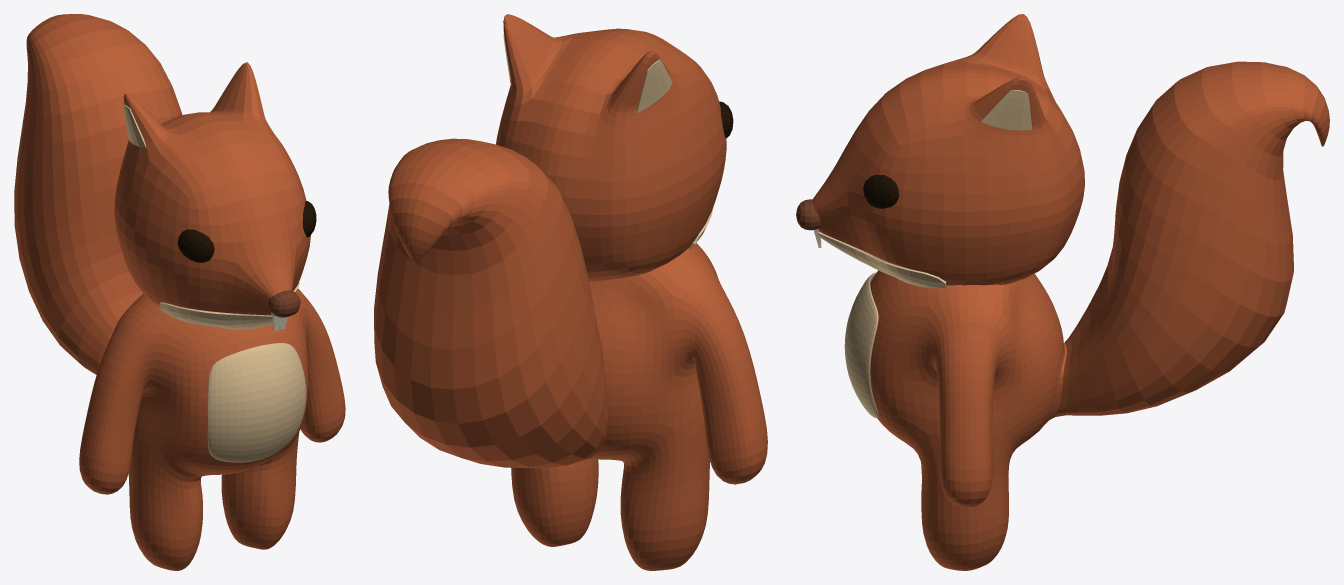
Rendered from squirrel.fbx.
3 views of the same model, side by side, from view 1: azimuth 30°, elevation 25°; view 2: azimuth 150°, elevation 25°; view 3: azimuth 270°, elevation 25° (orthographic). The views are drawn at different scales.
Visible parts, largest first — view 1: Body & Tail, Head, Belly Fur, Chin Fur, Right Eye, Nose, Ears; view 2: Body & Tail, Head, Ears; view 3: Body & Tail, Head, Belly Fur, Chin Fur, Ears, Left Eye.
Boxes of the visible parts, bbox=[...] form: Body & Tail: bbox=[14, 14, 345, 570]; Head: bbox=[114, 62, 310, 315]; Belly Fur: bbox=[207, 343, 306, 462]; Chin Fur: bbox=[159, 282, 299, 329]; Right Eye: bbox=[177, 229, 214, 262]; Nose: bbox=[268, 290, 300, 317]; Ears: bbox=[123, 78, 265, 147]; Body & Tail: bbox=[374, 138, 767, 570]; Head: bbox=[496, 14, 726, 281]; Ears: bbox=[503, 31, 672, 113]; Body & Tail: bbox=[870, 61, 1329, 570]; Head: bbox=[812, 14, 1084, 285]; Belly Fur: bbox=[844, 272, 878, 417]; Chin Fur: bbox=[817, 232, 946, 287]; Ears: bbox=[981, 90, 1032, 130]; Left Eye: bbox=[863, 174, 898, 208].
Bounding box in the file's own units: 205 × 348 × 338.
